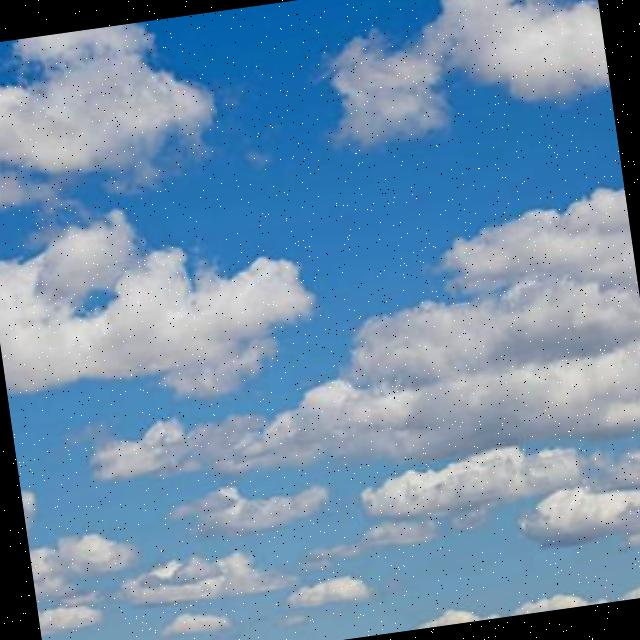Cu: (1, 59, 640, 595)
